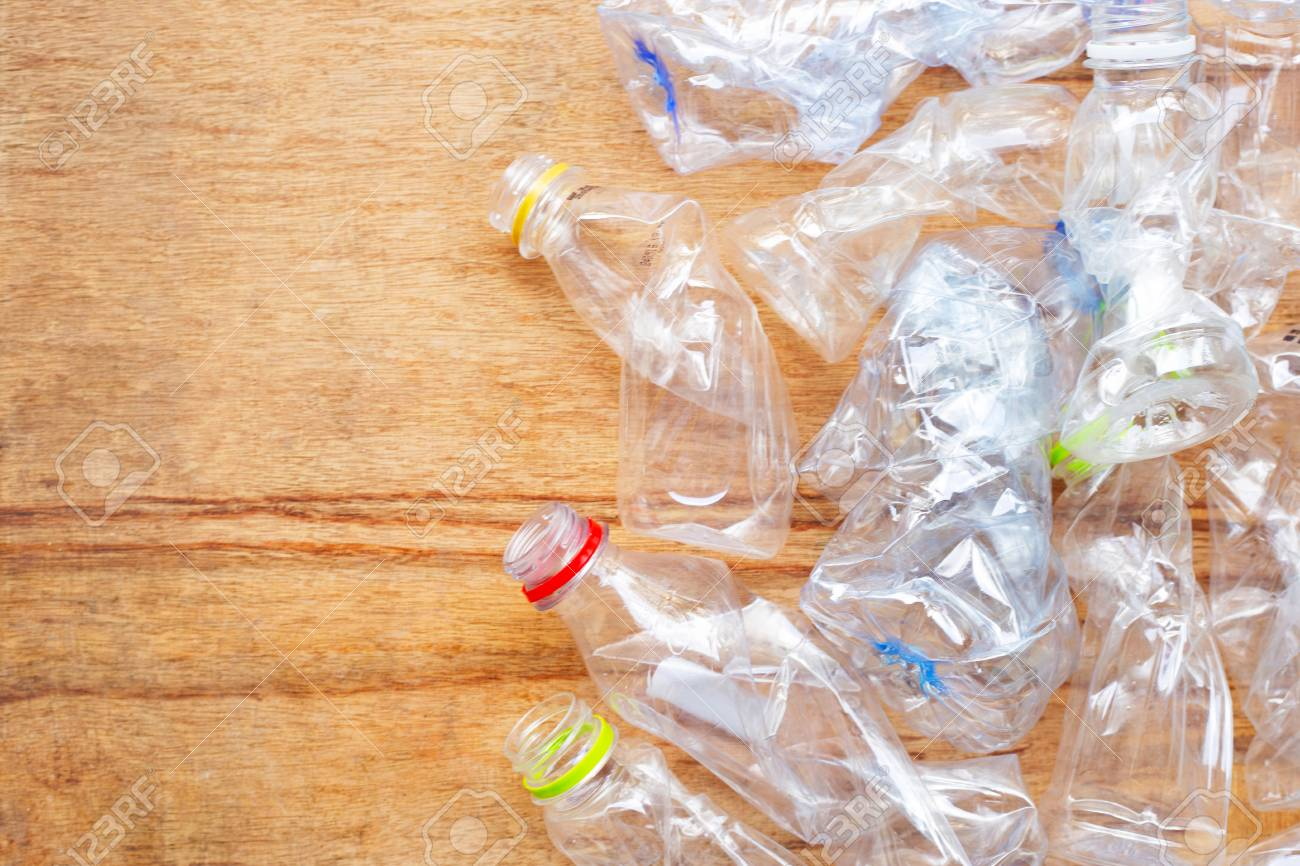plastic_bottle: (414, 390, 1068, 866), (361, 114, 879, 657), (788, 142, 1174, 792), (694, 77, 1182, 520), (556, 1, 1177, 279), (984, 261, 1252, 866), (1030, 2, 1291, 580), (463, 601, 893, 866), (556, 1, 559, 2)
